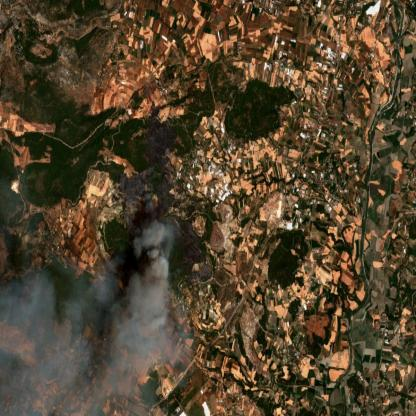fire: (109, 158, 177, 278)
